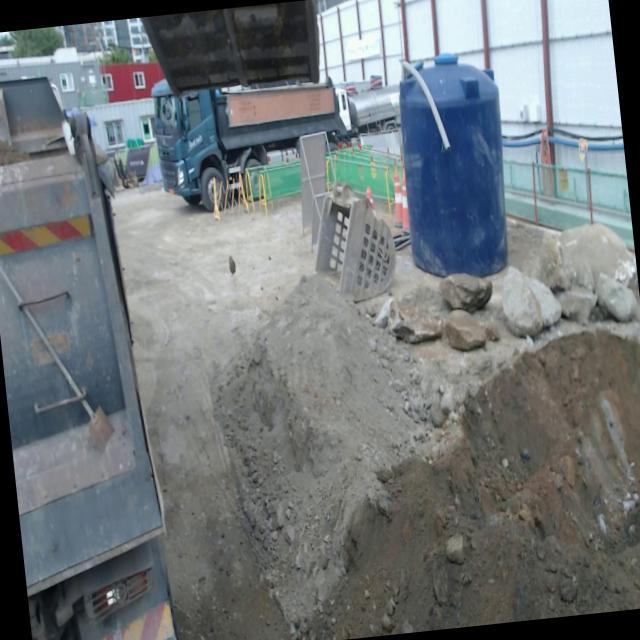stone: (533, 223, 638, 291), (501, 266, 562, 336), (388, 300, 443, 342), (439, 273, 492, 312), (596, 273, 637, 321), (443, 309, 487, 350), (557, 287, 596, 321)
white-sand: (115, 190, 640, 640)
